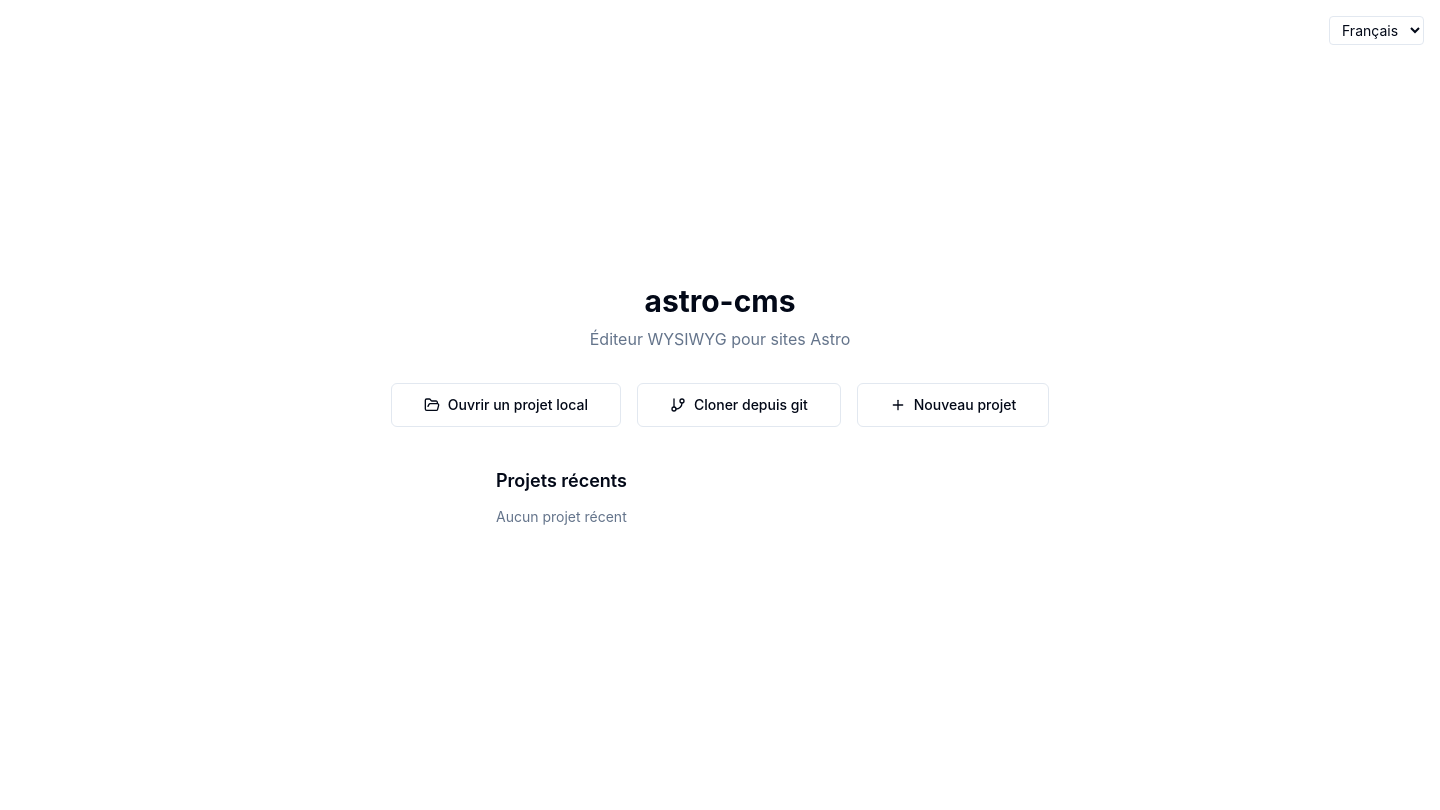
App flow › dismisses error and returns to welcome screen
Click the button "Ouvrir un projet local" at (506, 405), box top-left (391, 383), bottom-right (621, 427)
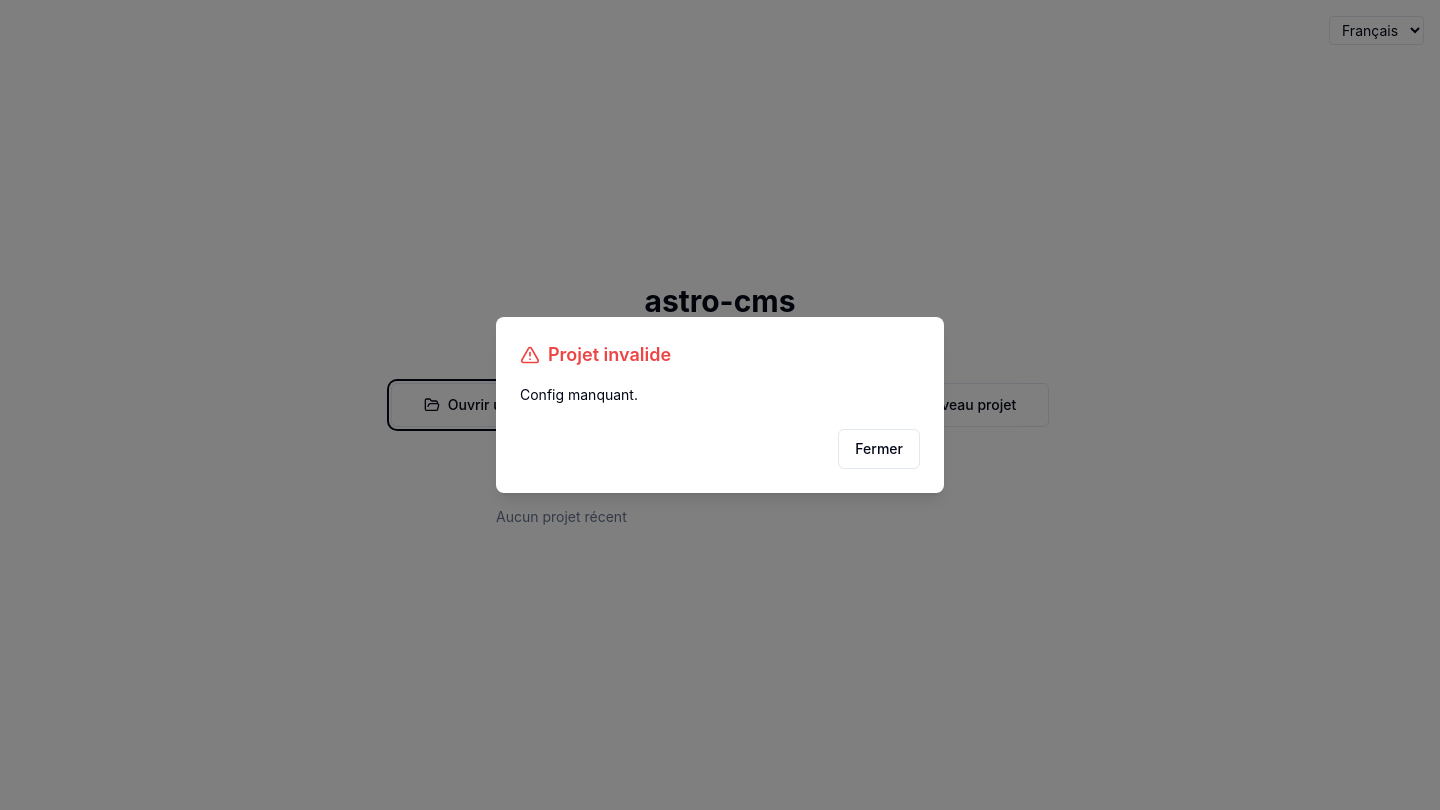
Now the list item "Config manquant." is shown, box top-left (520, 386), bottom-right (638, 403)
Click the button "Fermer" at (879, 449), box top-left (838, 429), bottom-right (920, 469)
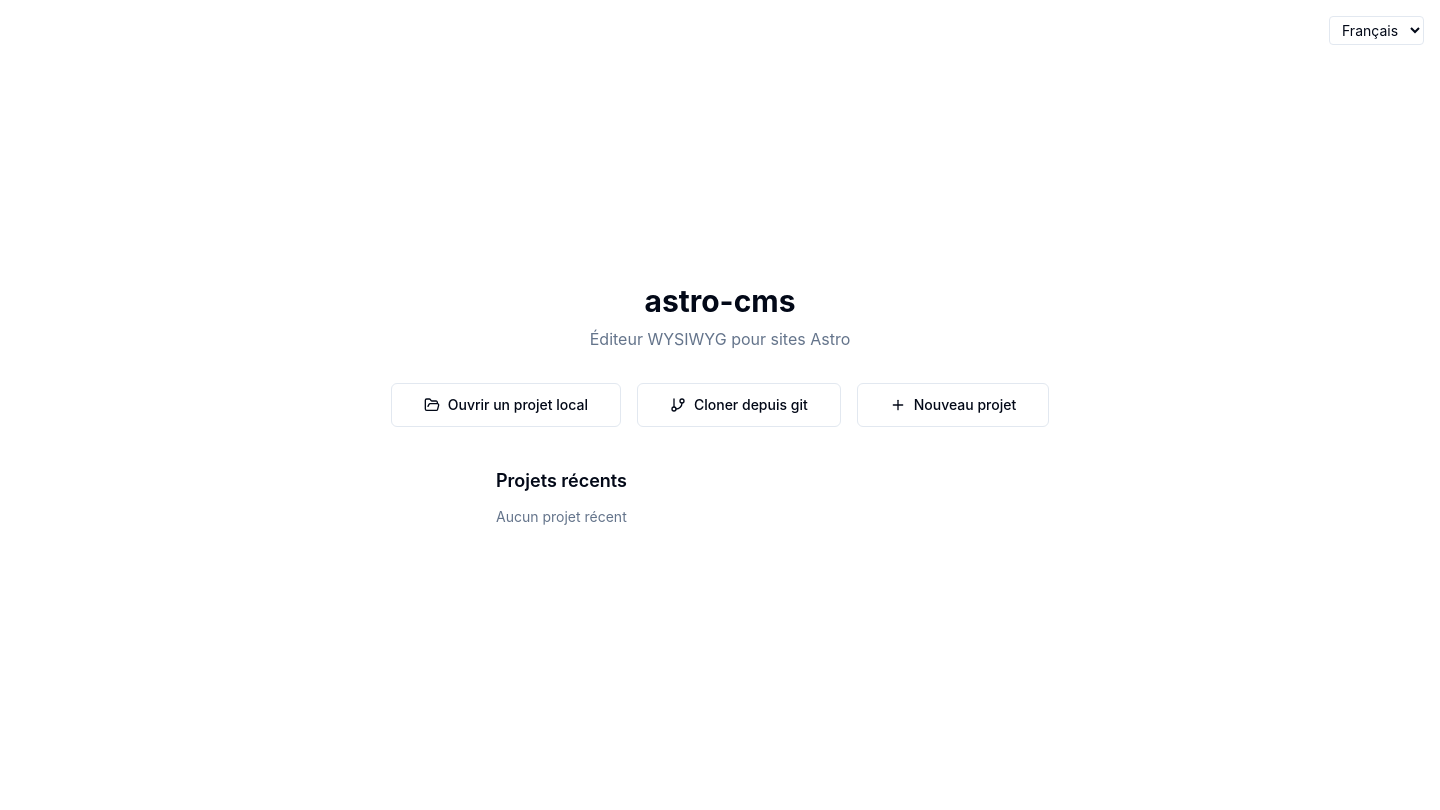
Expected: the button "Ouvrir un projet local" is shown, top-left (391, 383), bottom-right (621, 427)
Now the list item "Config manquant." is gone
